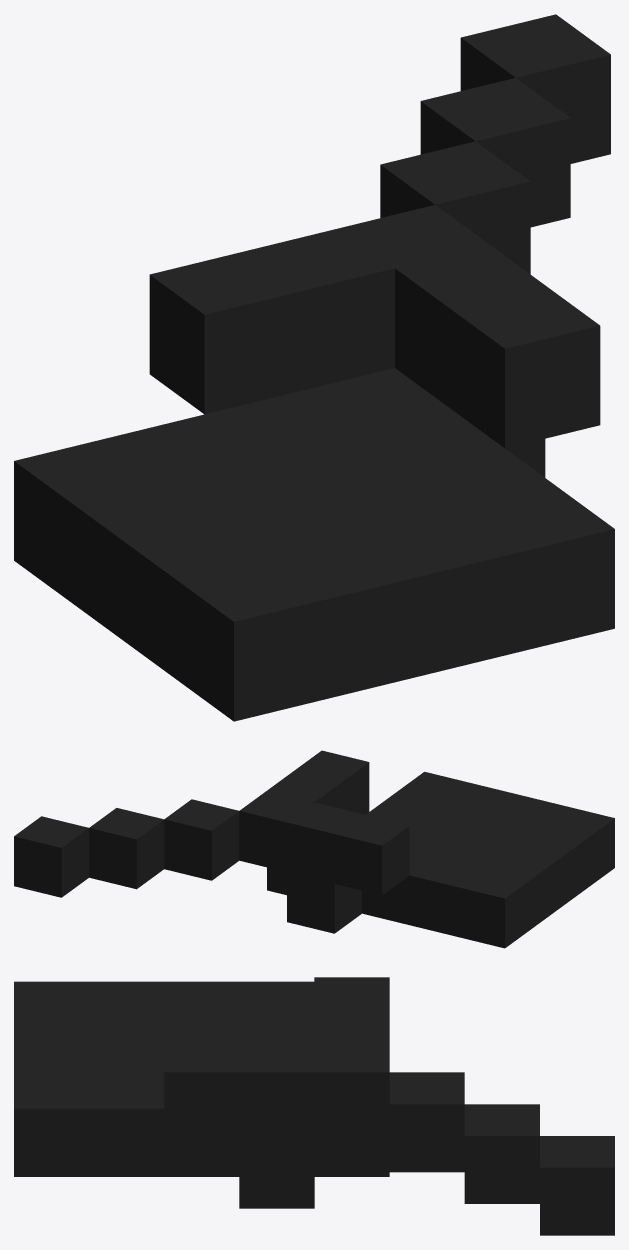
Rendered from SKOVORODKA.obj.
The picture shows the model from 3 angles, top to bottom: view 1: azimuth 30°, elevation 25°; view 2: azimuth 150°, elevation 25°; view 3: azimuth 270°, elevation 25°; orthographic projection. The views are drawn at different scales.
Visible parts, largest first — view 1: SKOVORODKA; view 2: SKOVORODKA; view 3: SKOVORODKA.
Part boxes in pixels (x1,y1,x2,y2): SKOVORODKA: (14, 14, 614, 721); SKOVORODKA: (14, 750, 614, 948); SKOVORODKA: (14, 977, 614, 1235).
Bounding box in the file's own units: 0.8 × 0.2 × 0.8.
1 material, 1 textured.
